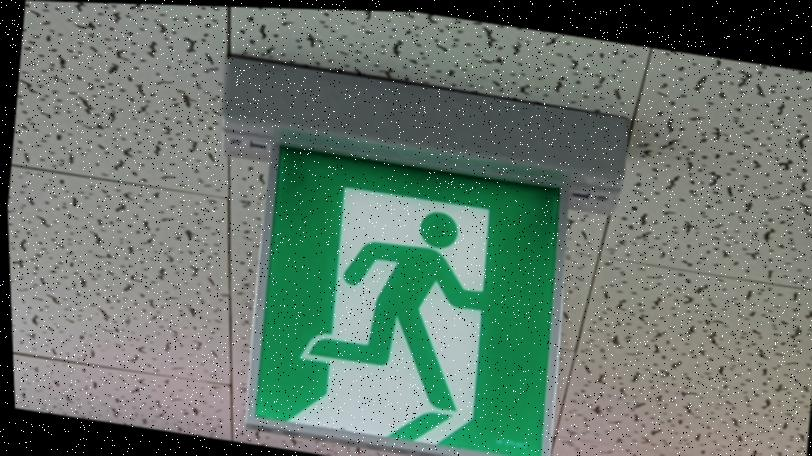emergency_exit: (245, 142, 565, 454)
